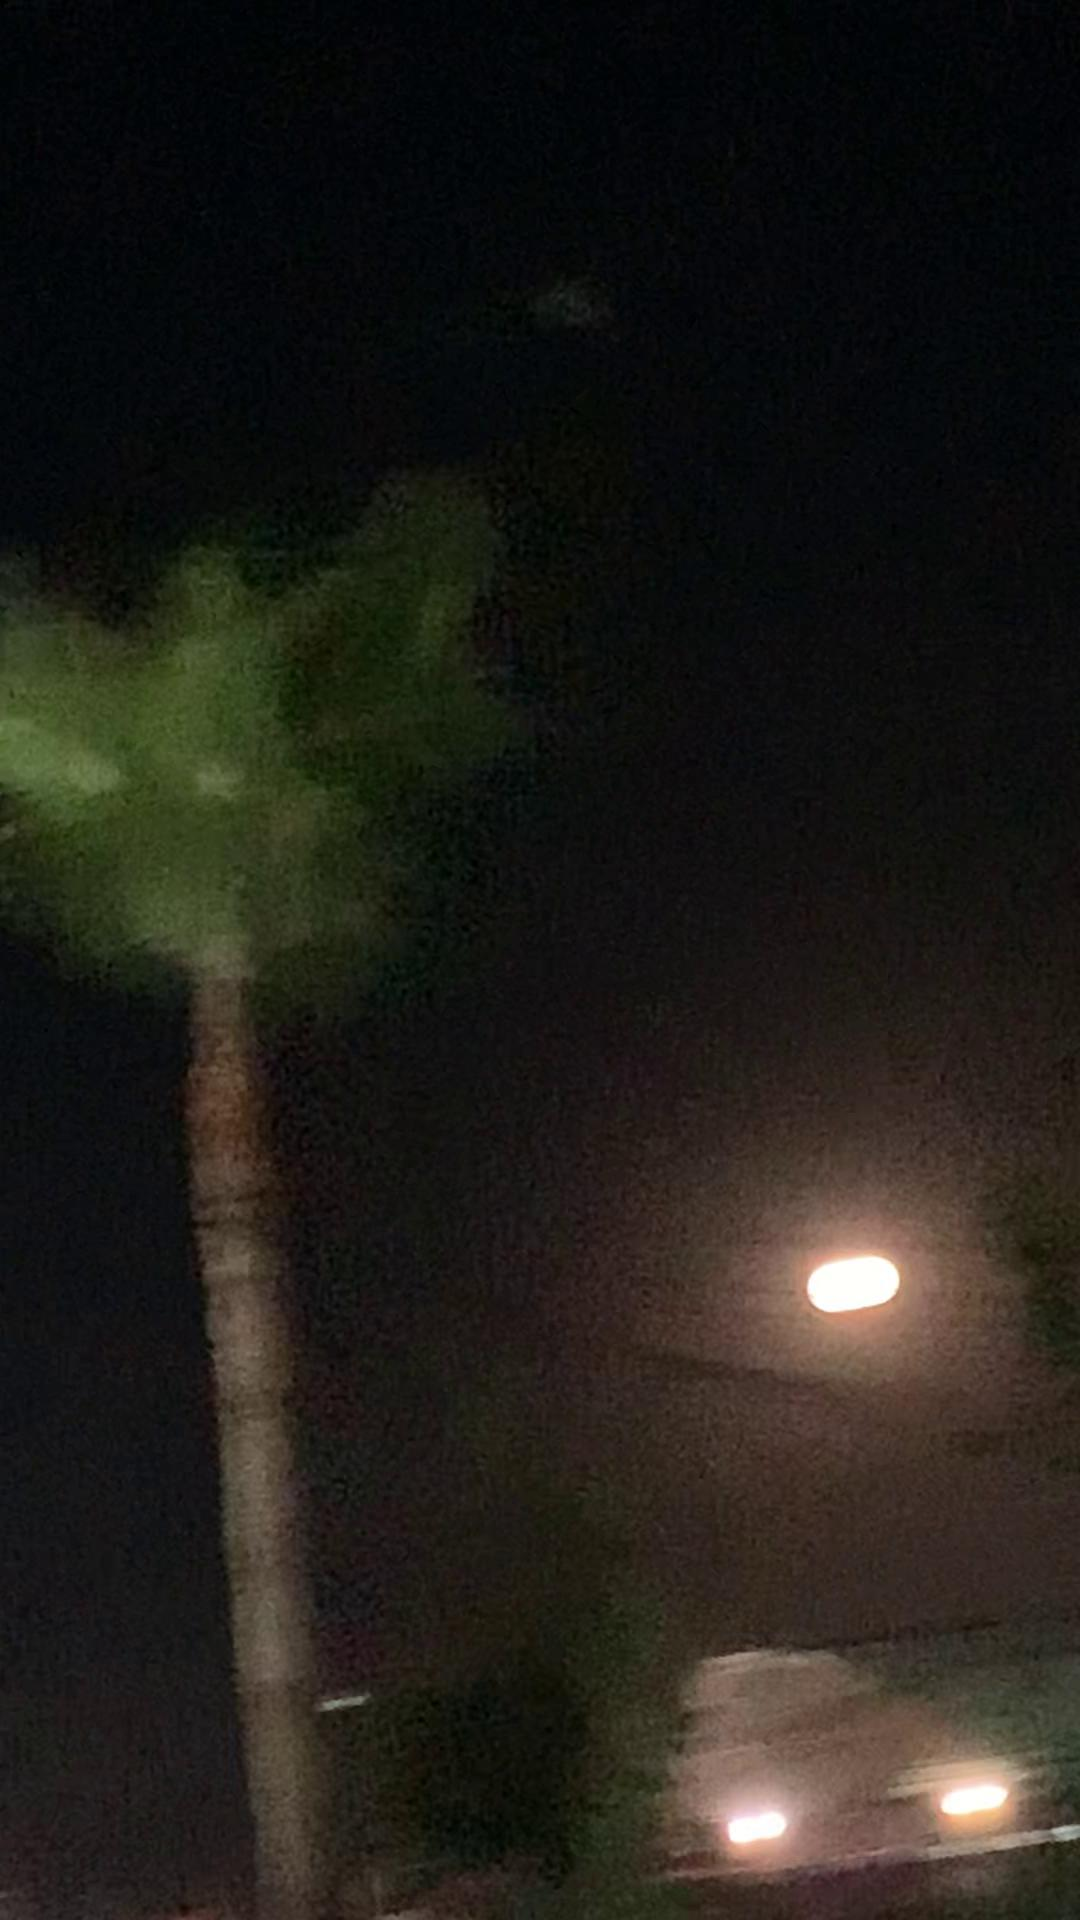moon: (801, 1260, 899, 1342)
